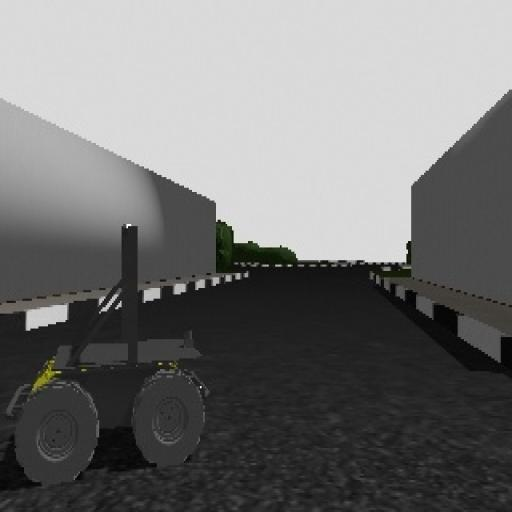huskya200: (14, 203, 210, 507)
